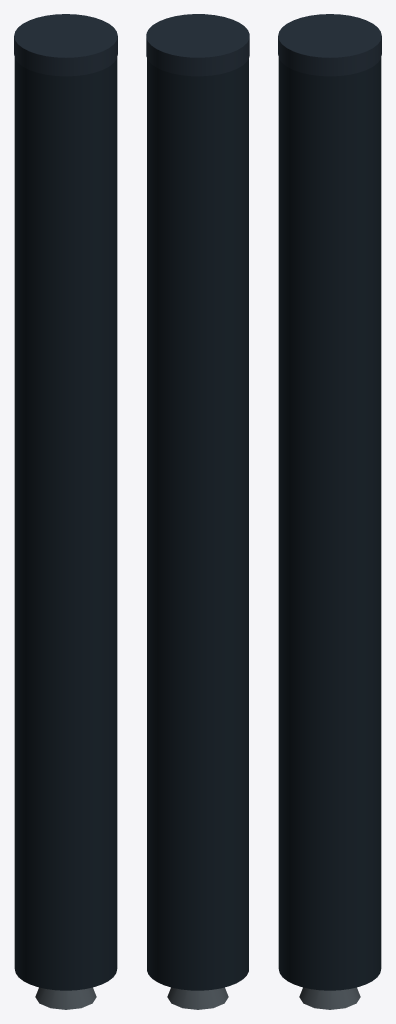
Rendered from alpha-stage-1.glb.
3 renders of one model, left to right at view 1: azimuth 90°, elevation 25°; view 2: azimuth 150°, elevation 25°; view 3: azimuth 270°, elevation 25°, orthographic.
Visible parts, largest first — view 1: body-0, interstage-0, engine-0-0; view 2: body-0, interstage-0, engine-0-0; view 3: body-0, interstage-0, engine-0-0.
Boxes of the visible parts, bbox=[...] form: body-0: bbox=[14, 58, 117, 990]; interstage-0: bbox=[14, 14, 117, 76]; engine-0-0: bbox=[35, 987, 96, 1009]; body-0: bbox=[147, 58, 248, 990]; interstage-0: bbox=[146, 14, 249, 76]; engine-0-0: bbox=[167, 987, 228, 1009]; body-0: bbox=[278, 58, 381, 990]; interstage-0: bbox=[278, 14, 381, 76]; engine-0-0: bbox=[299, 987, 360, 1009].
Size of the model in its own units: 0.0253 by 0.2586 by 0.0253.
